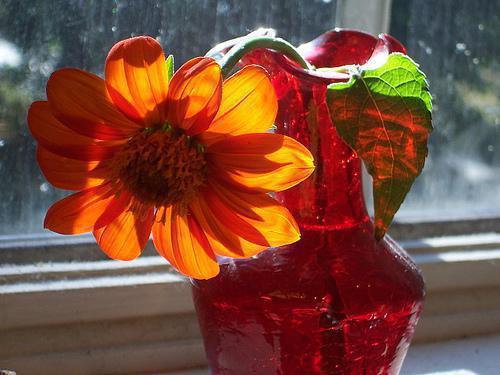Matera: (35, 22, 437, 373)
